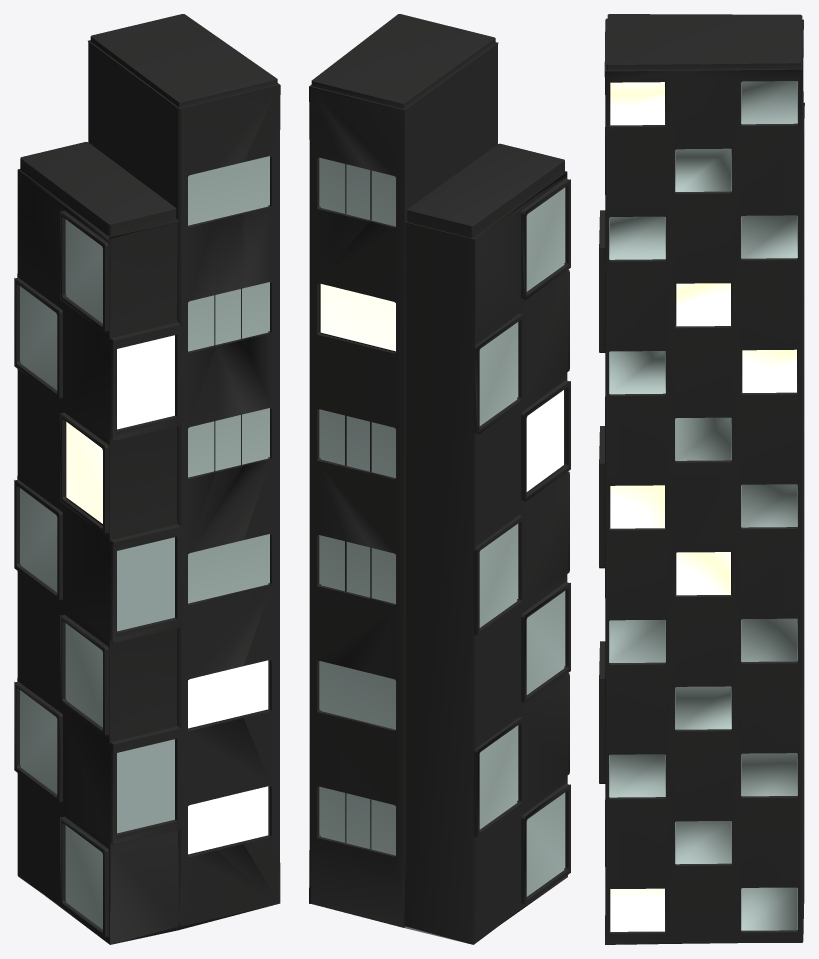
The model's file is building 095.fbx.
3 views of the same model, side by side, from view 1: azimuth 30°, elevation 25°; view 2: azimuth 150°, elevation 25°; view 3: azimuth 270°, elevation 25° (orthographic). The views are drawn at different scales.
Visible parts, largest first — view 1: BUILDING.095; view 2: BUILDING.095; view 3: BUILDING.095.
Boxes of the visible parts, x1,y1,x2,y2 form: BUILDING.095: (14,14,280,944); BUILDING.095: (309,14,570,944); BUILDING.095: (599,14,804,944).
Bounding box in the file's own units: 198 × 897 × 190.
